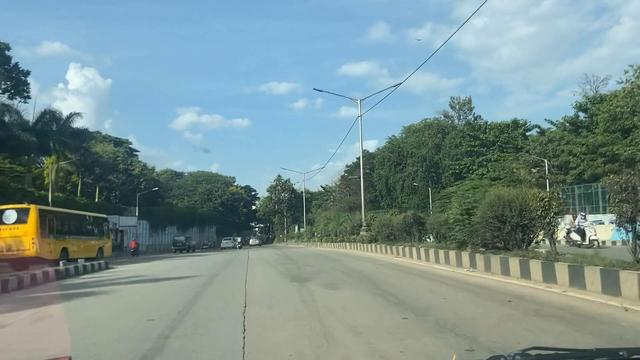RoadDamages: (236, 249, 256, 360)
